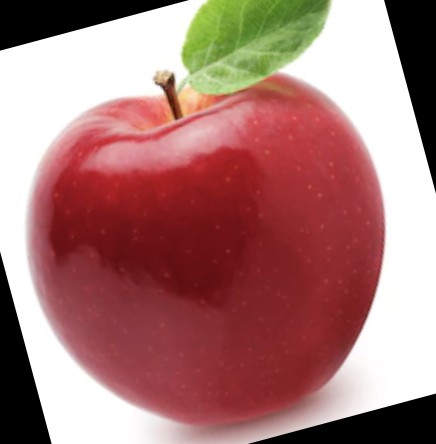fresh_apple: (19, 76, 392, 423)
